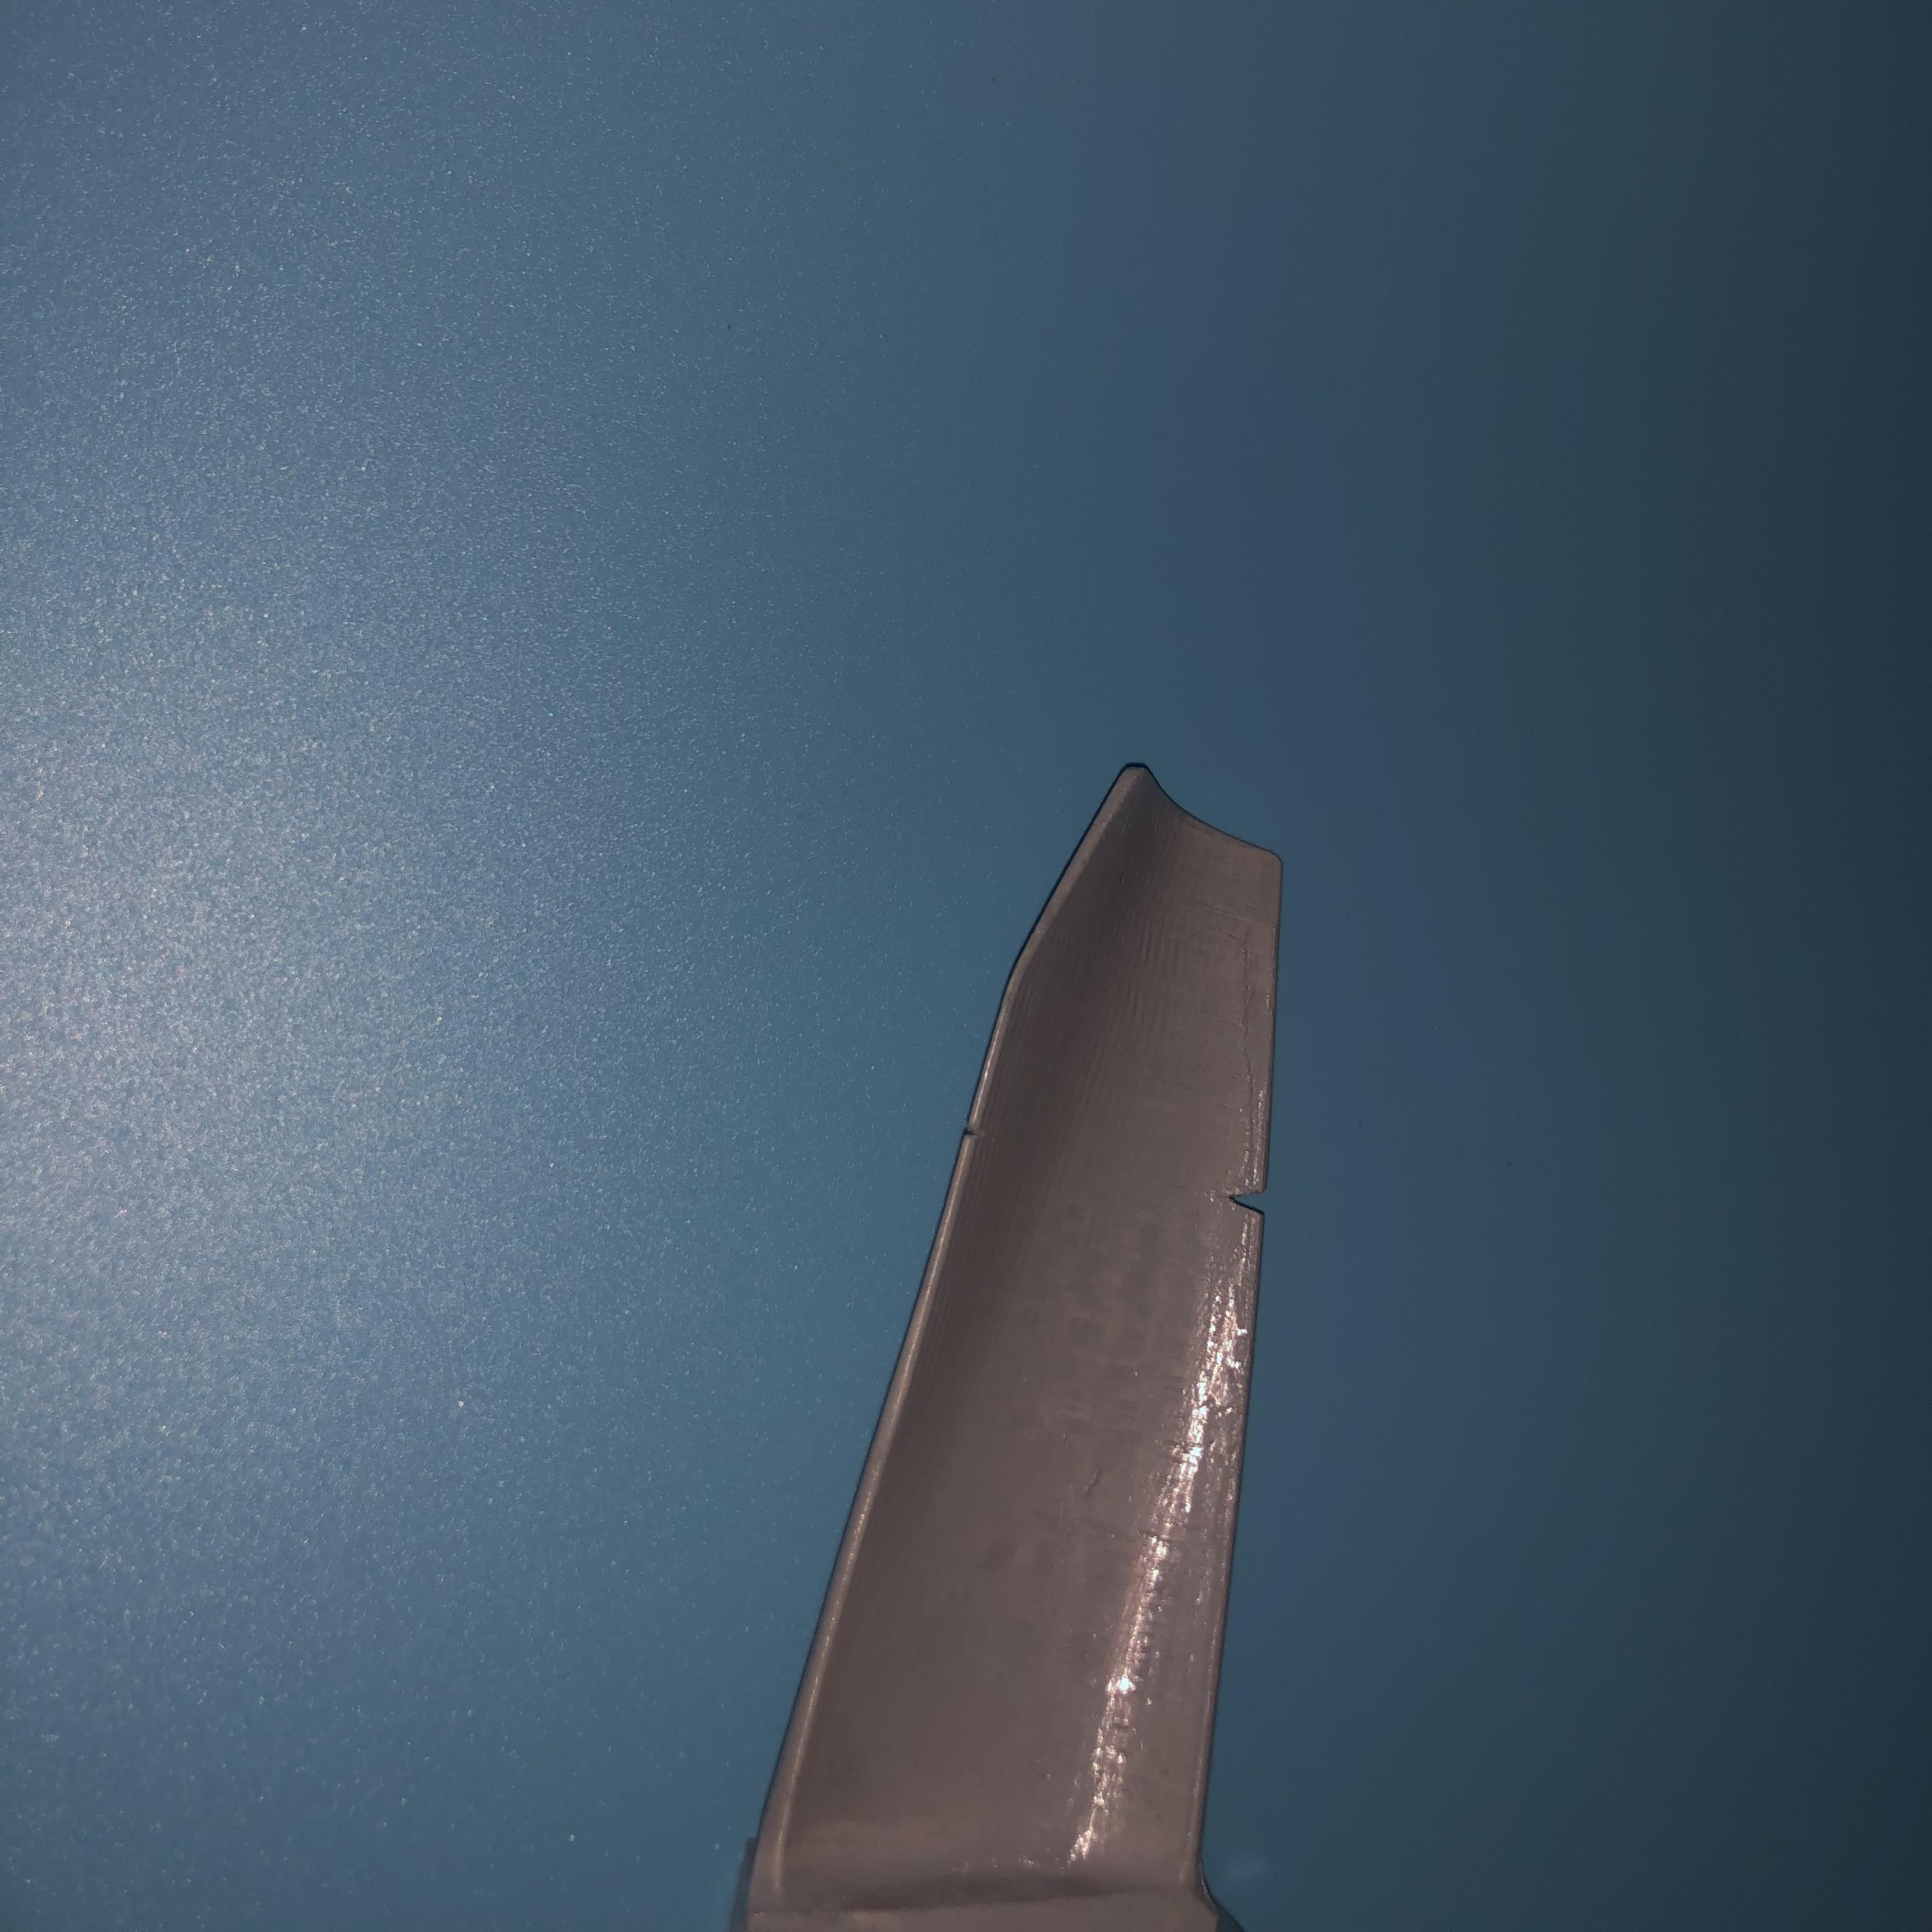groove: (1219, 1173, 1277, 1217), (964, 1115, 987, 1143)
